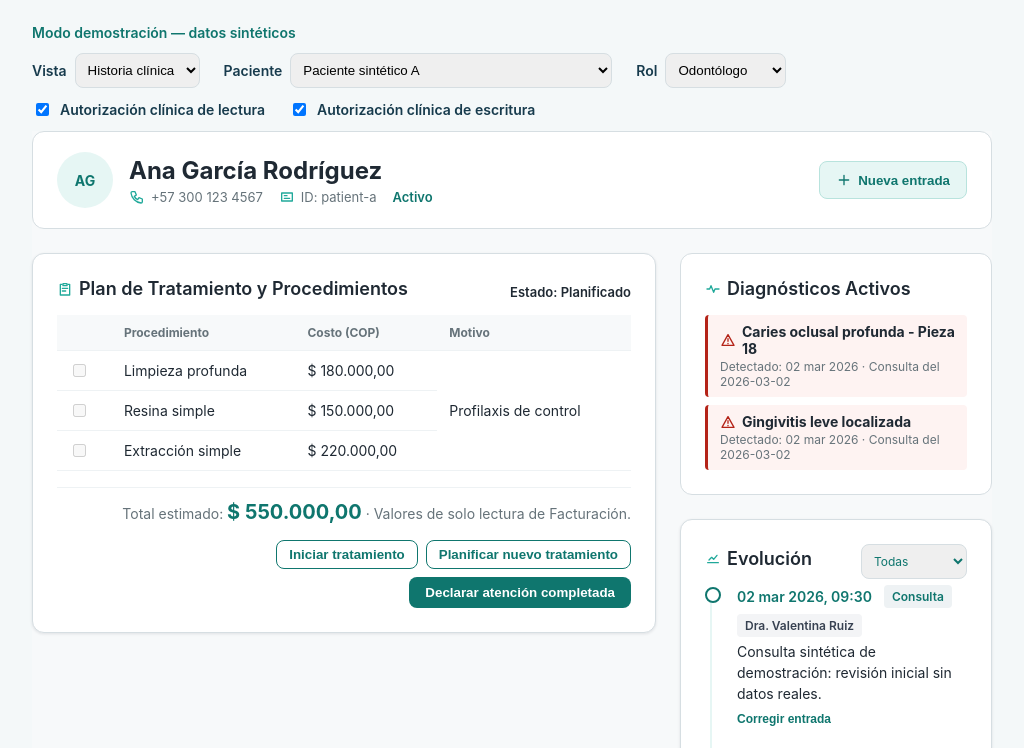
ClinicalPortalComposition › plans procedures from the catalog without prices
Expected: the cell "Limpieza profunda" is shown, [112,350,296,390]
Click the button "Planificar nuevo tratamiento" at {"x": 528, "y": 554}, box [426,540,631,569]
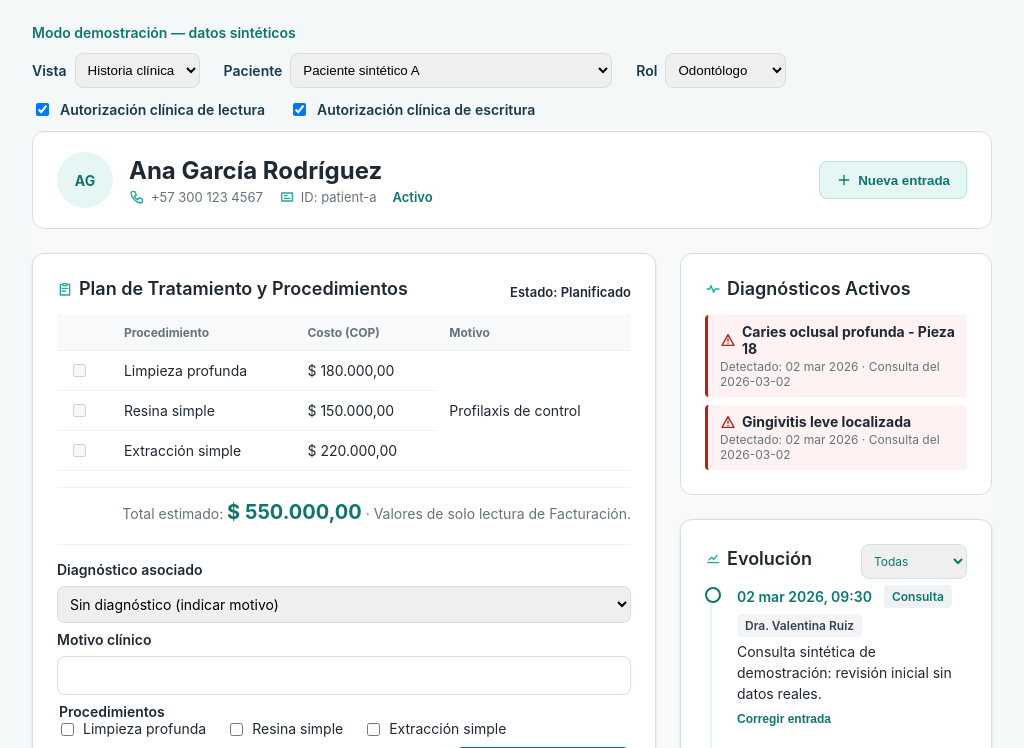
Type "Caries en pieza 18" into the field labelled "Motivo clínico" at {"x": 344, "y": 676}, box [57,656,631,695]
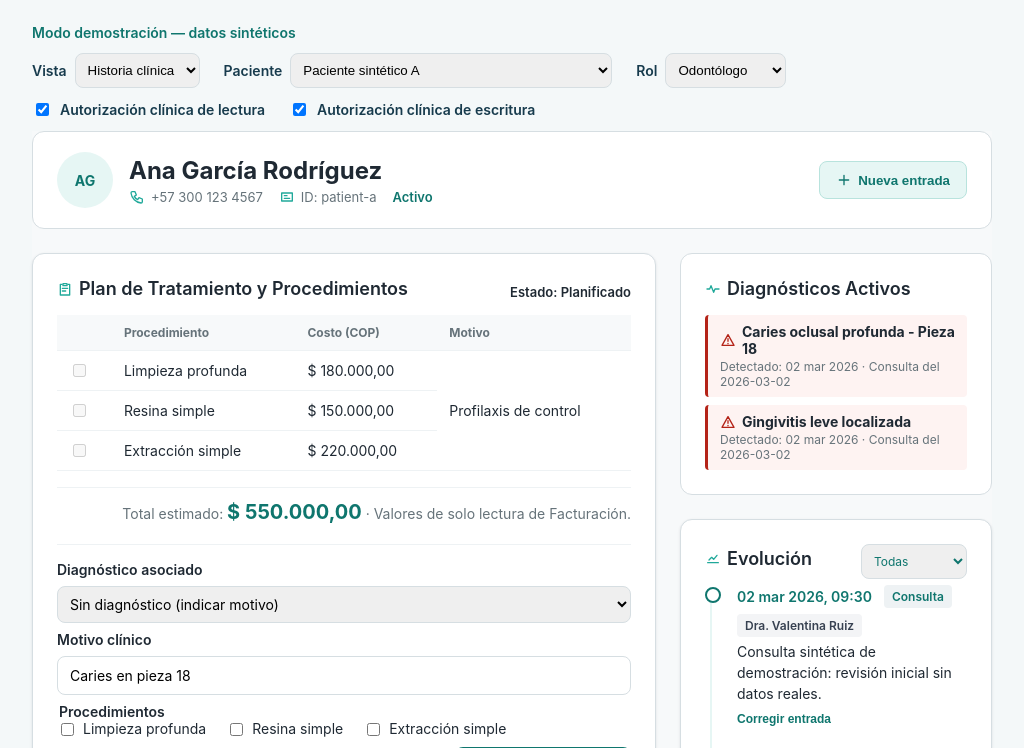
Click the checkbox labelled "Resina simple" at {"x": 237, "y": 730}, box [230,723,243,736]
(page scrolled)
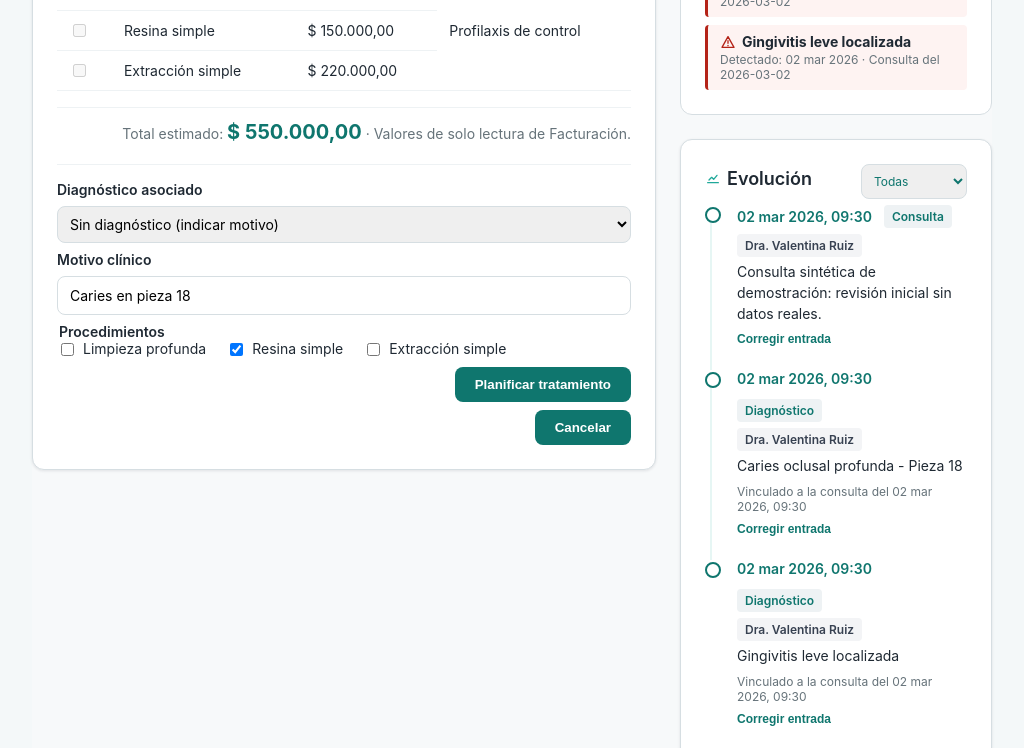
Click the button "Planificar tratamiento" at {"x": 543, "y": 384}, box [455,367,631,402]
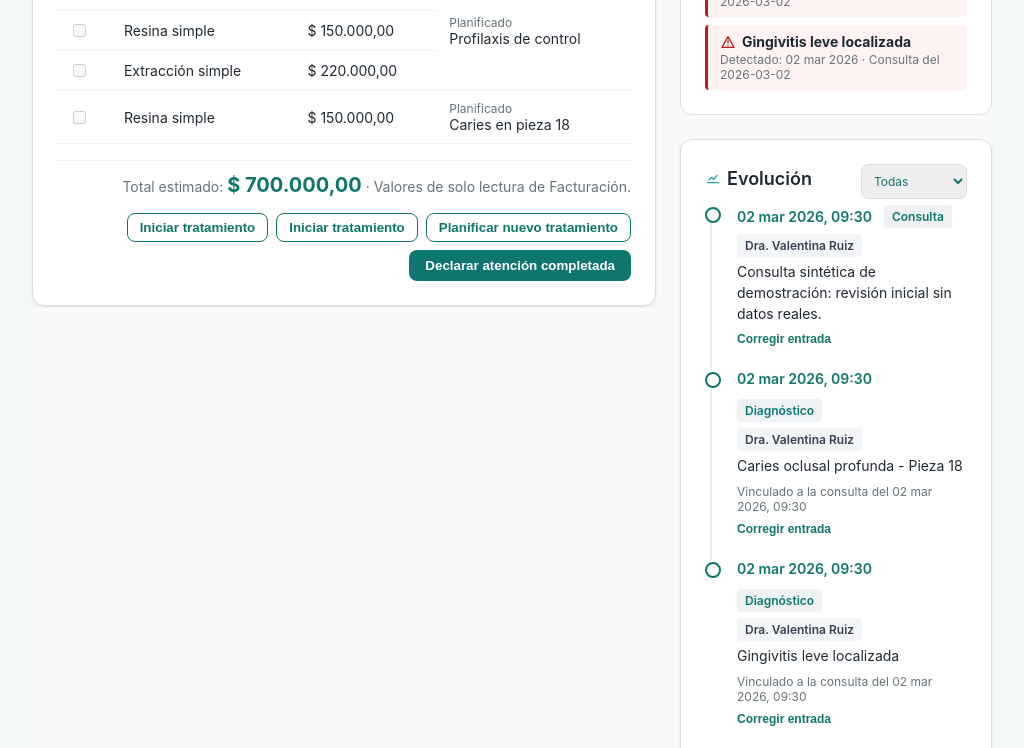
Result: the cell "Planificado Caries en pieza 18" is shown at [437,90,631,144]
Result: the number of cells "Resina simple" is 2 at [112,10,296,50]; [112,90,296,144]
